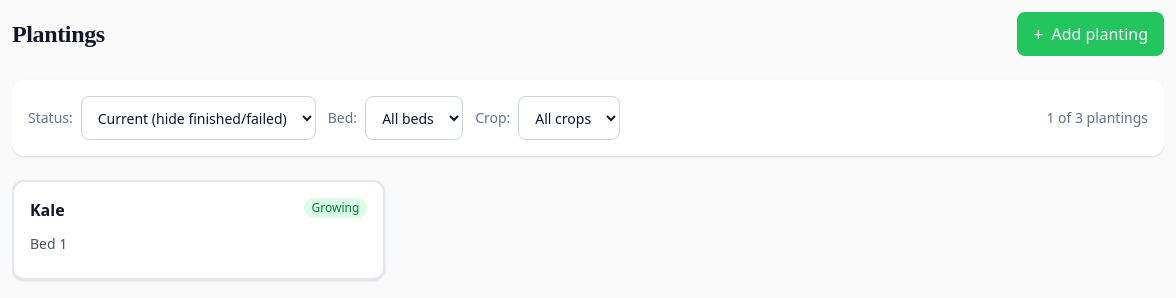
PlantingList › hides finished and failed plantings by default, and a filter reveals them
This screenshot has width=1176, height=298.
Expected: the text "Kale" is shown, 30,198 -> 65,222
Expected: the text "Spinach" is not shown
Select "All" in the dropdown labelled "Status:" at (198, 118), box 81,96 -> 316,140
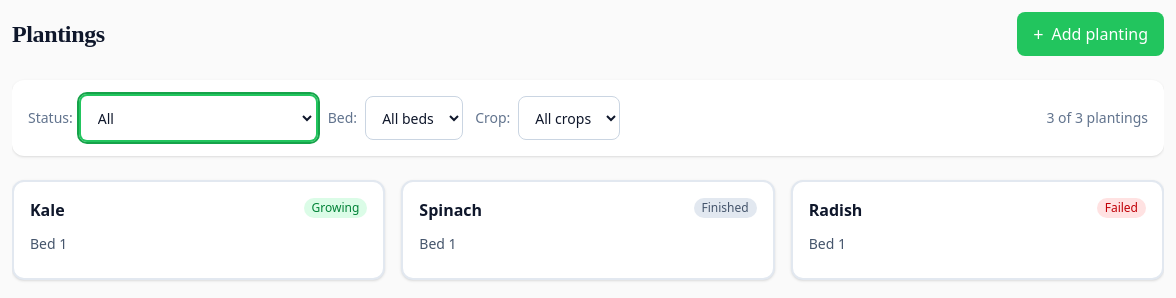
Expected: the text "Kale" is shown, 30,198 -> 65,222
Result: the text "Spinach" is shown at 419,198 -> 482,222
Result: the text "Radish" is shown at 809,198 -> 862,222
